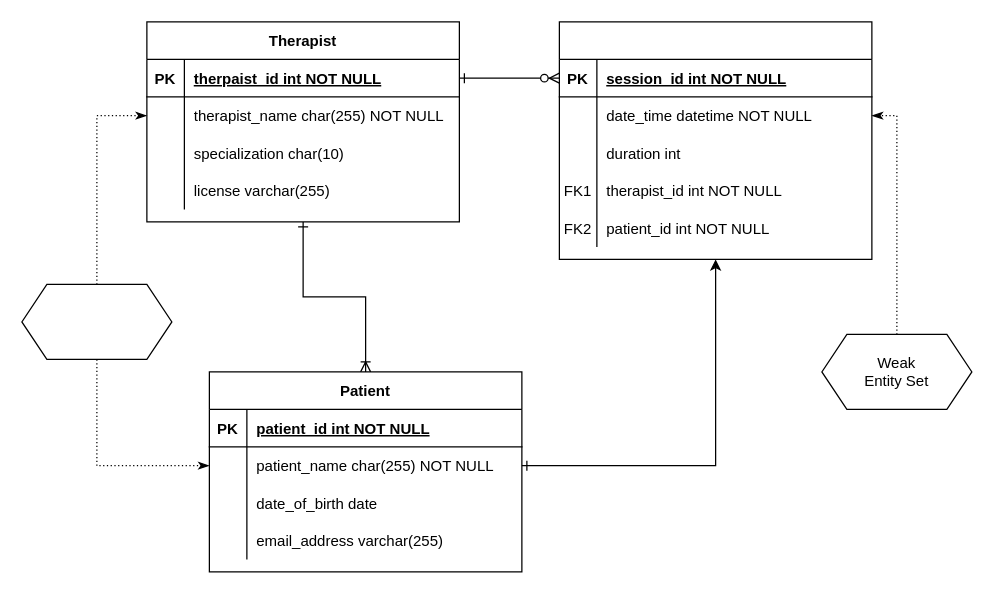
Image size: 994x594. Some labels were removed from this diagram. The box of each missing label's shape, as (x1, y1, x2, y2) in pixels:
Sessions: (558, 21, 872, 259)
Strong Entity Set: (21, 283, 172, 359)
